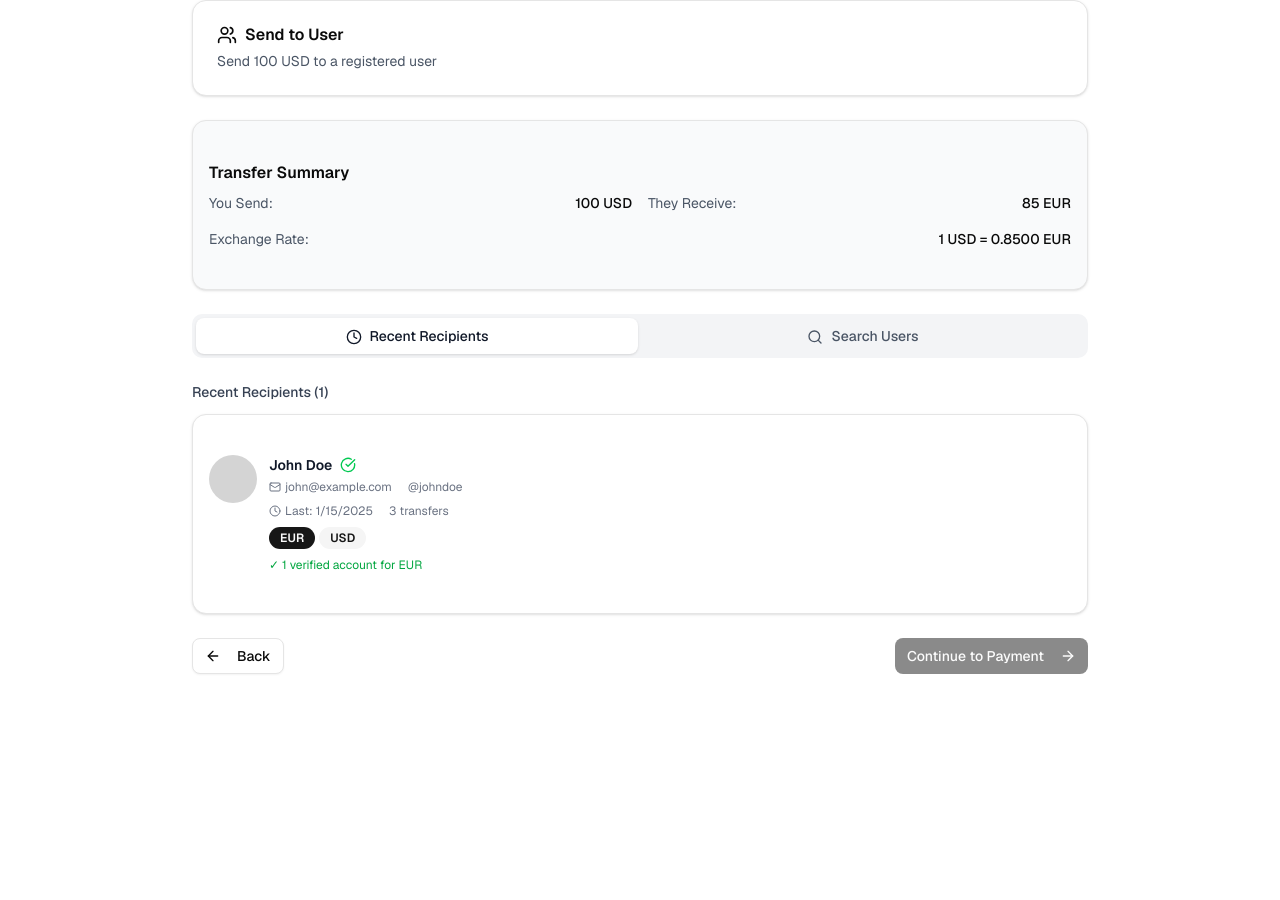
Test: UserRecipientSelector › selects a recipient when clicked
Click on the recipient
Click the heading "John Doe": x=301, y=465 [269,455,332,475]
(page scrolled)
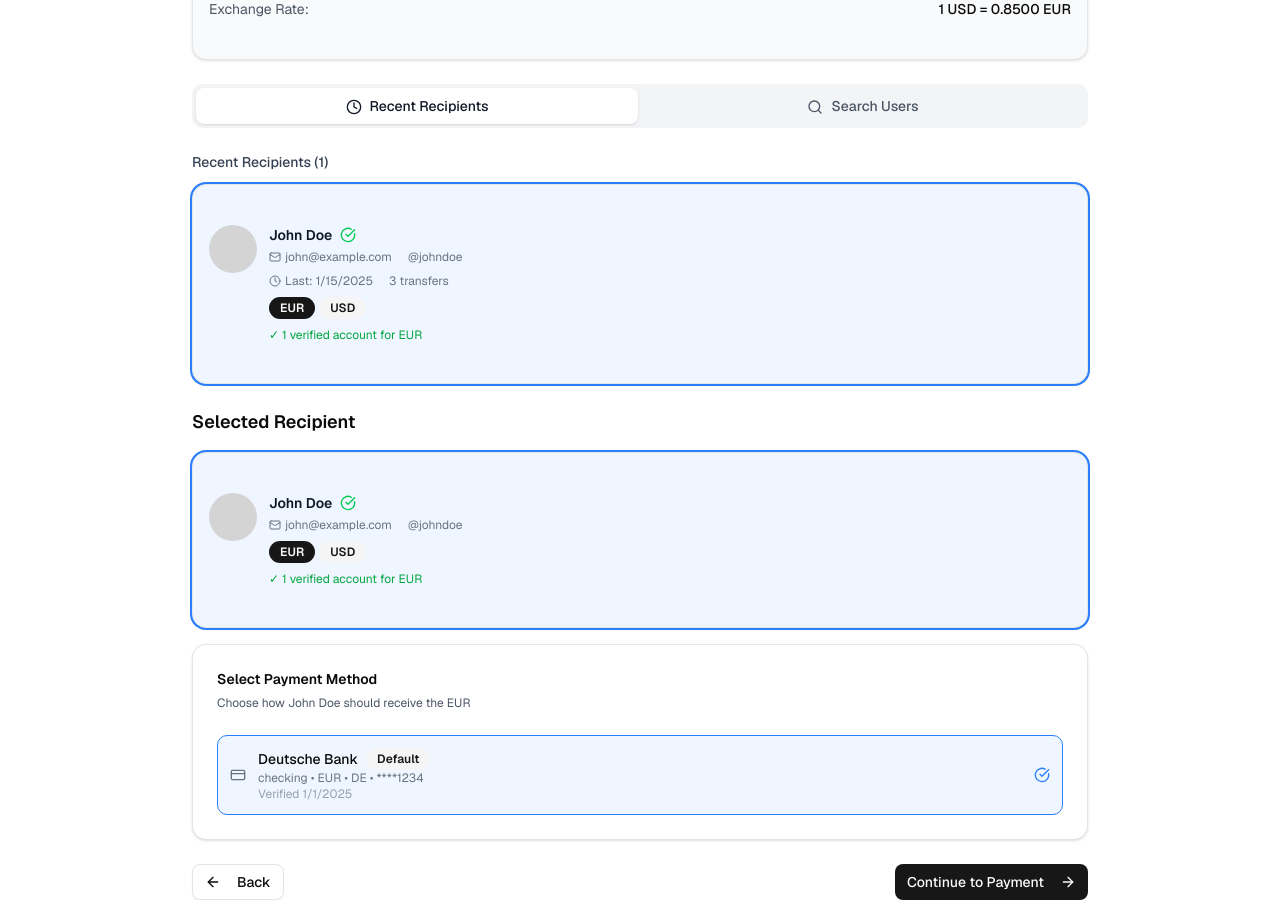
Result: the heading "Selected Recipient" is shown at [192,410,355,433]
Result: the text "Select Payment Method" is shown at [217,670,377,688]
Result: the text "Deutsche Bank" is shown at [258,749,358,769]
